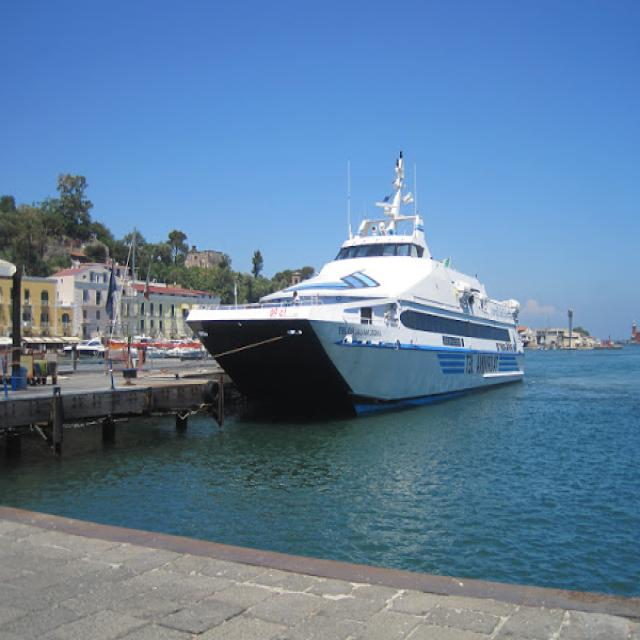houseboat: (187, 172, 534, 414)
